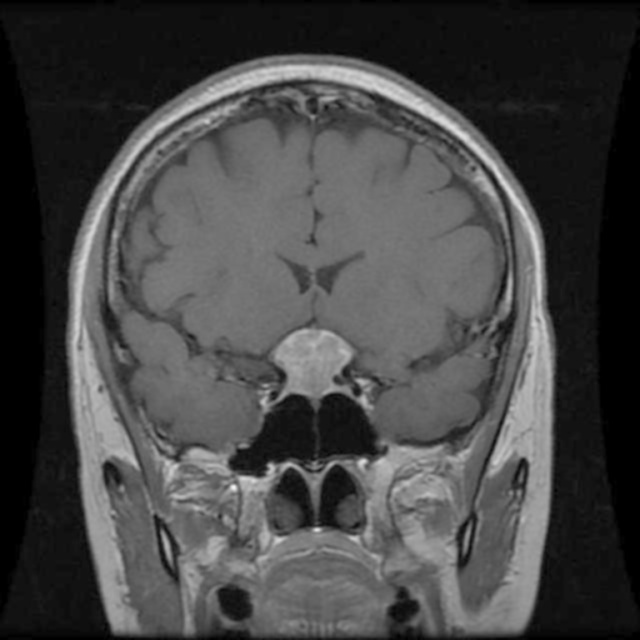no tumor: (278, 322, 346, 398)
